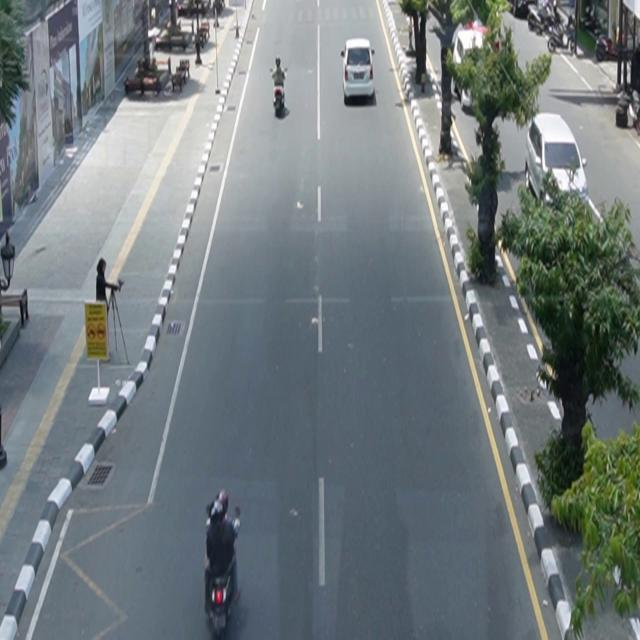car: (526, 113, 590, 213), (341, 39, 376, 104)
